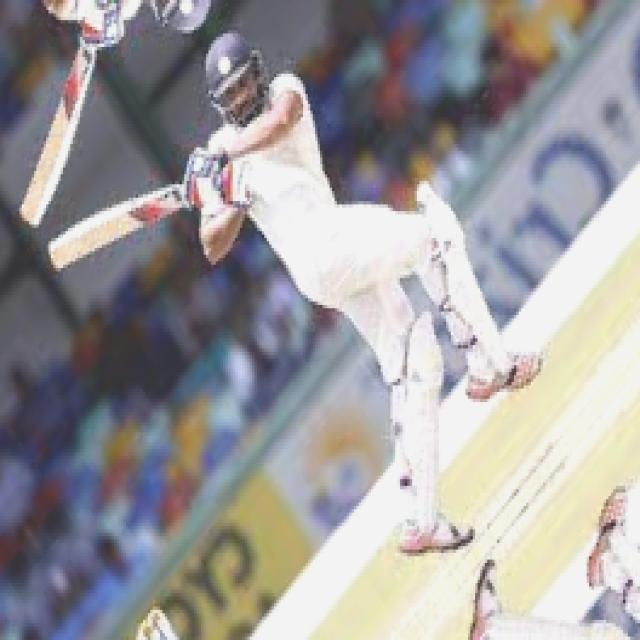toe: (43, 235, 69, 281)
